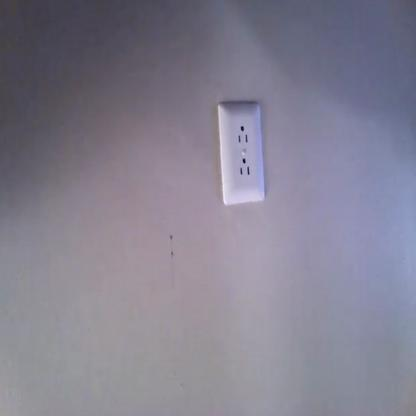OUTLET: (223, 102, 261, 205)
